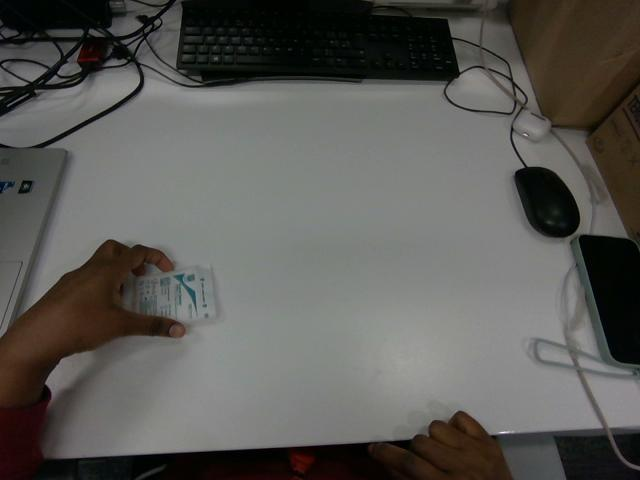gauze: (133, 266, 216, 321)
